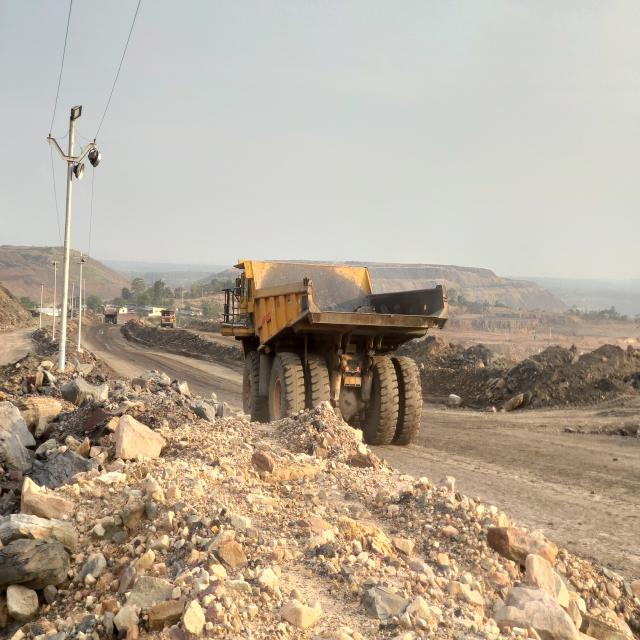dump_truck: (221, 260, 448, 443)
